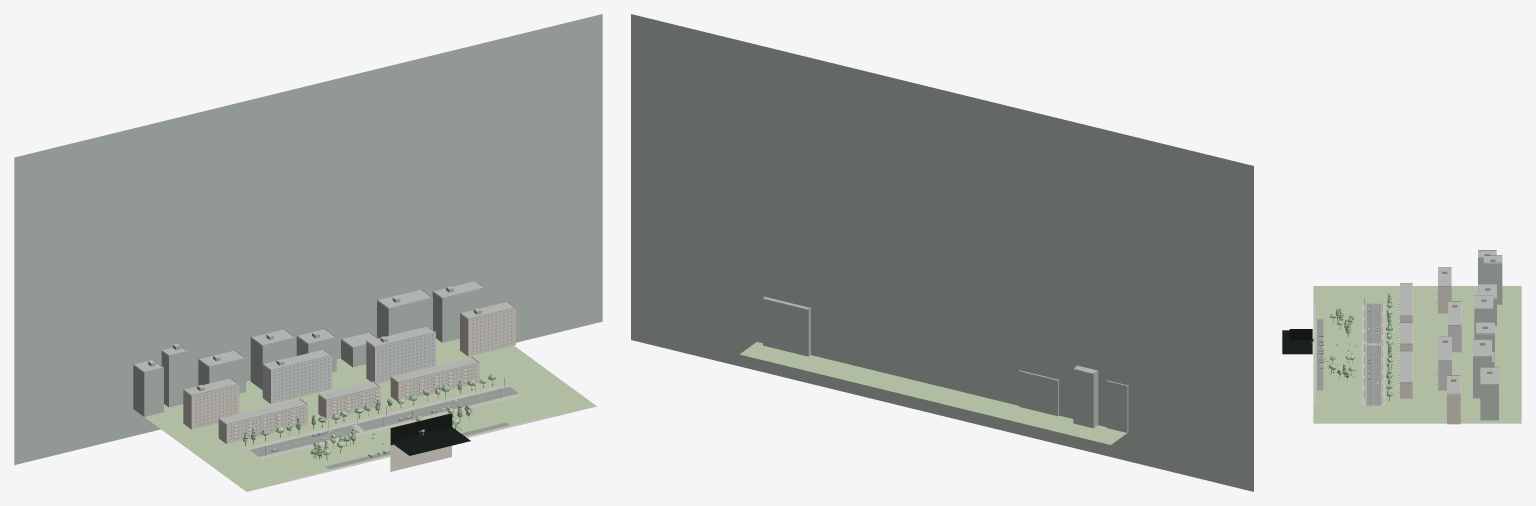
File: story-room.glb
The picture shows the model from 3 angles, left to right: view 1: azimuth 30°, elevation 25°; view 2: azimuth 150°, elevation 25°; view 3: azimuth 270°, elevation 25°; orthographic projection. The views are drawn at different scales.
Visible parts, largest first — view 1: Sky, Ground, Houses-skyline, Houses-house-a, Roofs, Houses-house-b, WindowsDark, Road, Sidewalks, WallBack, Floor, CrownsLight (+2 smaller); view 2: Sky, Ground, Houses-skyline; view 3: Ground, Roofs, Houses-skyline, Road, Houses-house-a, Sidewalks, Houses-house-b, CrownsLight, Floor, Yard, Crowns, WallLeft.
Part boxes in pixels (x1,y1,x2,y2): Sky: [14, 14, 602, 464]; Ground: [144, 338, 596, 491]; Houses-skyline: [133, 288, 485, 416]; Houses-house-a: [183, 308, 515, 443]; Roofs: [133, 280, 515, 441]; Houses-house-b: [262, 333, 435, 403]; WindowsDark: [195, 310, 512, 439]; Road: [250, 386, 518, 456]; Sidewalks: [247, 384, 551, 480]; WallBack: [390, 413, 452, 471]; Floor: [391, 427, 470, 455]; CrownsLight: [243, 378, 486, 455]; Sky: [631, 14, 1253, 491]; Ground: [740, 342, 1126, 444]; Houses-skyline: [763, 299, 1128, 432]; Ground: [1313, 286, 1521, 423]; Roofs: [1398, 250, 1502, 414]; Houses-skyline: [1473, 258, 1502, 420]; Road: [1365, 303, 1381, 405]; Houses-house-a: [1399, 268, 1460, 424]; Sidewalks: [1313, 303, 1385, 405]; Houses-house-b: [1438, 302, 1461, 390]; CrownsLight: [1328, 292, 1393, 393]; Floor: [1282, 330, 1312, 354]; Yard: [1317, 319, 1323, 390]; Crowns: [1324, 303, 1392, 396]; WallLeft: [1289, 329, 1312, 340].
Bounding box in the file's own units: 286 × 143 × 126.
Materials: 78 (1 with a texture image).
